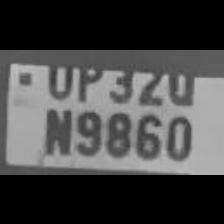0: (162, 108, 194, 160), (164, 60, 198, 102)
2: (132, 60, 164, 104)
3: (104, 55, 134, 101)
6: (131, 108, 163, 160)
8: (100, 106, 132, 158)
9: (72, 104, 100, 156)
N: (37, 103, 71, 155)
P: (72, 51, 102, 101)
U: (41, 51, 72, 97)
